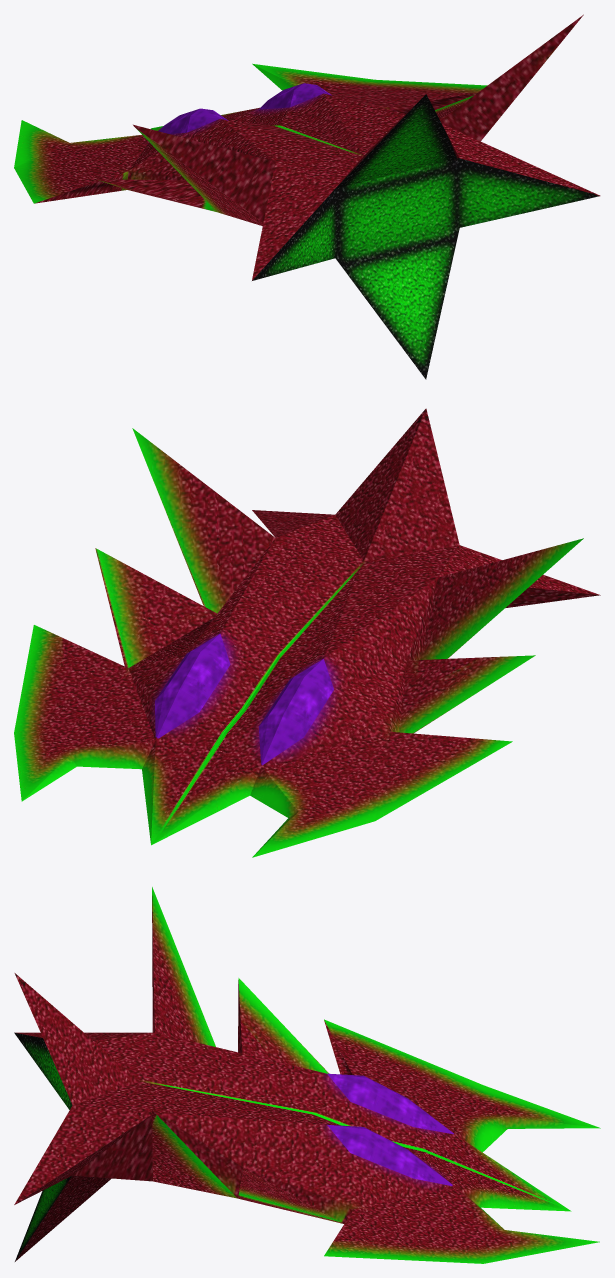
File: enemy4.fbx
3 renders of one model, top to bottom at view 1: azimuth 30°, elevation 25°; view 2: azimuth 150°, elevation 25°; view 3: azimuth 270°, elevation 25°, orthographic.
Parts seen in each view (by area): view 1: pCube2; view 2: pCube2; view 3: pCube2.
Boxes of the visible parts, x1,y1,x2,y2 form: pCube2: [14, 14, 600, 379]; pCube2: [14, 408, 600, 857]; pCube2: [14, 887, 600, 1263].
Bounding box in the file's own units: 28.01 × 15.98 × 29.32.
Materials: 1 (1 with a texture image).
